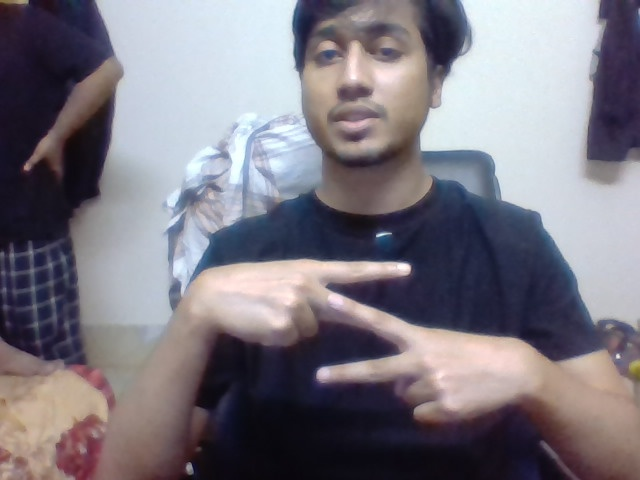Z: (312, 255, 416, 390)
